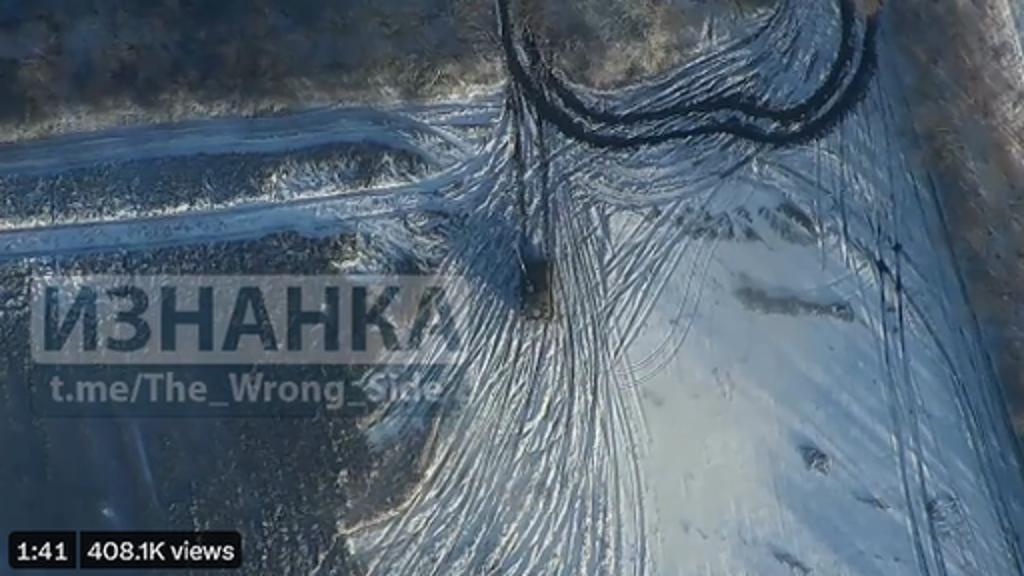ART: (508, 238, 560, 328)
